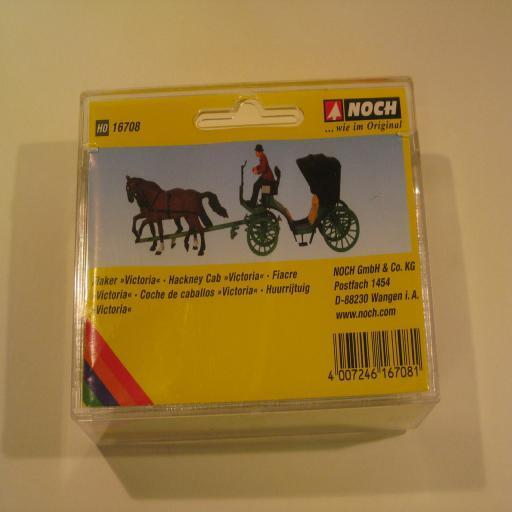horse: (134, 180, 230, 256), (126, 174, 214, 254)
